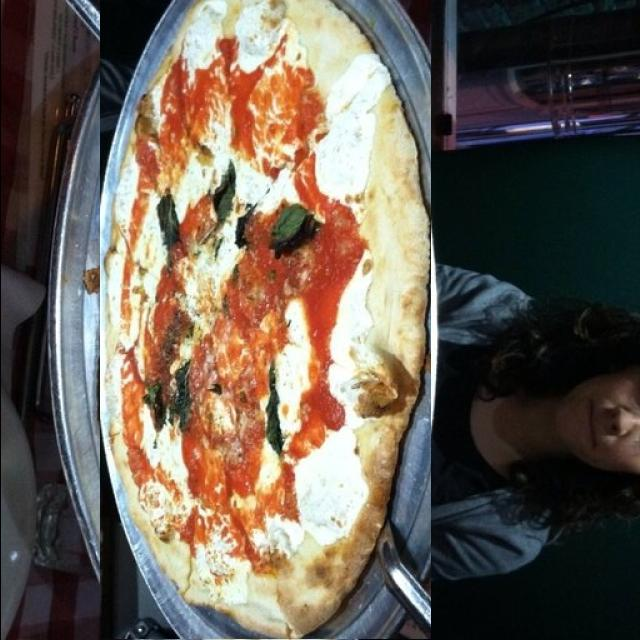basil: (291, 397, 327, 474), (212, 382, 262, 436), (245, 184, 269, 277), (336, 206, 359, 282), (352, 386, 374, 446), (366, 204, 388, 256)
pizza: (99, 0, 430, 639)
